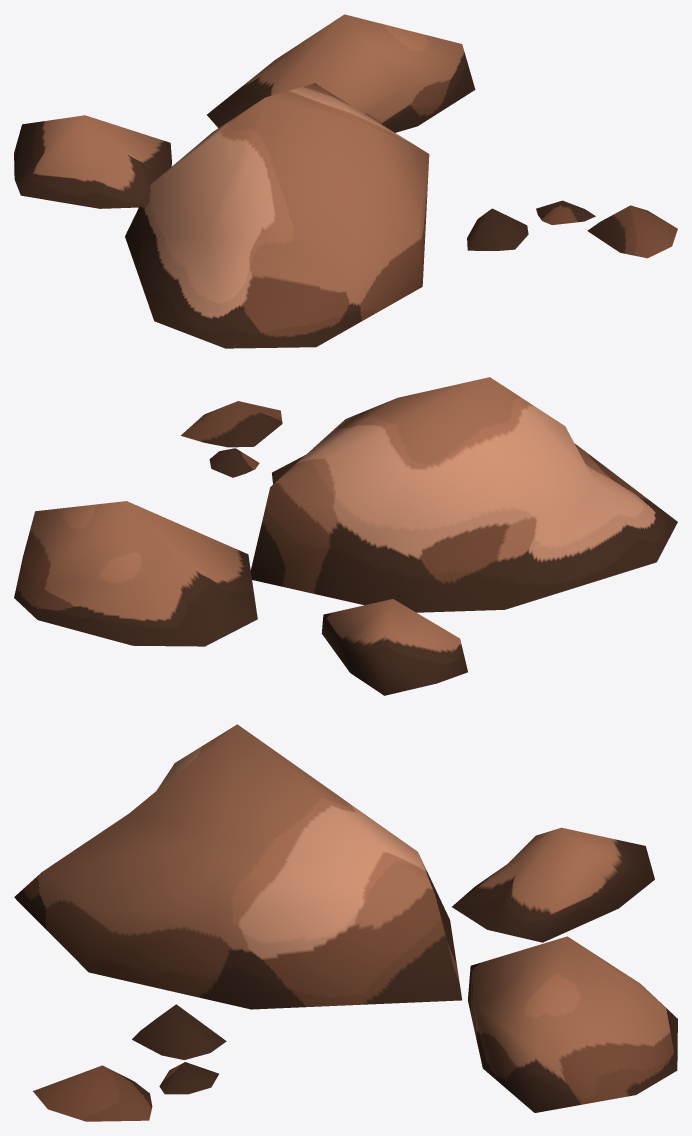
Rendered from Rock 1x 1 8_preview_3DS_simplified.glb.
3 views of the same model, one above another, from view 1: azimuth 30°, elevation 25°; view 2: azimuth 150°, elevation 25°; view 3: azimuth 270°, elevation 25° (orthographic). The views are drawn at different scales.
Visible parts, largest first — view 1: Marine Park Empire model; view 2: Marine Park Empire model; view 3: Marine Park Empire model.
Boxes of the visible parts, <box> form: Marine Park Empire model: <box>14,14,677,348</box>; Marine Park Empire model: <box>14,377,677,695</box>; Marine Park Empire model: <box>14,724,677,1121</box>.
Bounding box in the file's own units: 30.84 × 10.3 × 31.08.
Materials: 1 (1 with a texture image).
